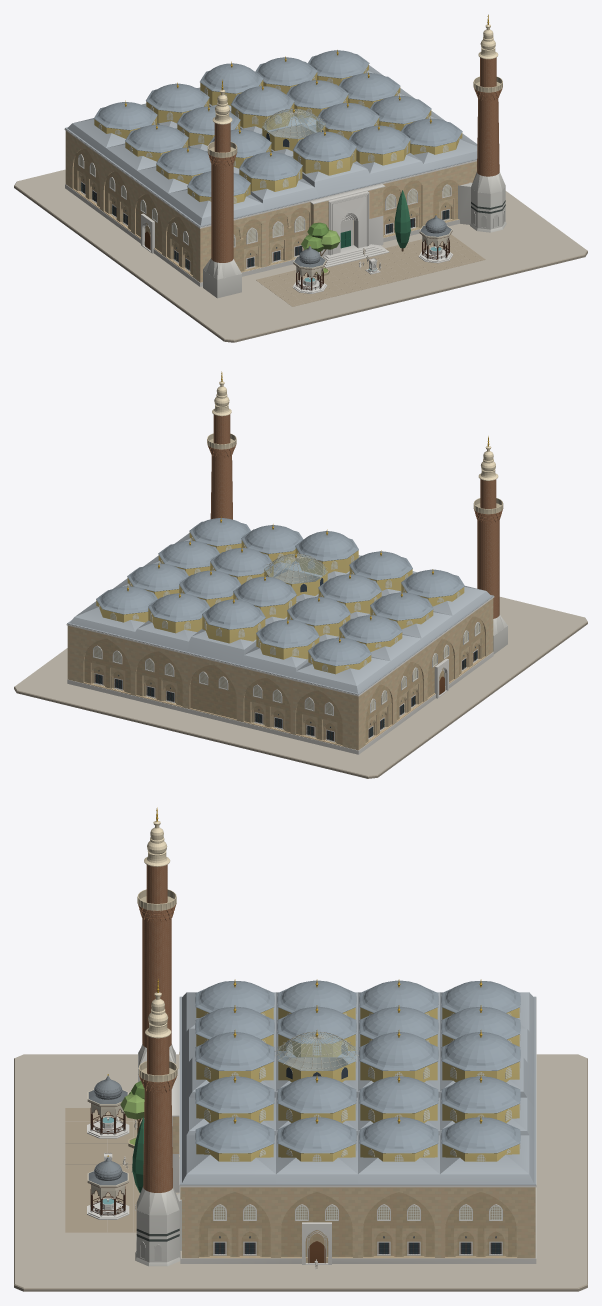
The model's file is ulu-cami_v23_sunum.glb.
3 views of the same model, one above another, from view 1: azimuth 30°, elevation 25°; view 2: azimuth 150°, elevation 25°; view 3: azimuth 270°, elevation 25° (orthographic). The views are drawn at different scales.
Parts seen in each view (by area): view 1: Kubbeler_19, Zemin_Kaide, Cati, Cephe_Kuzey, Cephe_Dogu, Minare_1, Zemin_Avlu_Tas, Minare_2, Pencere_Girintileri, Tac_Kapi, Sadirvan_Kubbe, Giris_Cikintili_Blok (+9 smaller); view 2: Kubbeler_19, Zemin_Kaide, Cephe_Guney, Cati, Cephe_Dogu, Pencere_Girintileri, Minare_2, Minare_1, Mermer_Bant, Sadirvan_Kubbe, Kasnak_Pencereleri, Silme_Ust (+1 smaller); view 3: Kubbeler_19, Zemin_Kaide, Cephe_Bati, Cati, Minare_1, Zemin_Avlu_Tas, Minare_2, Pencere_Girintileri, Sadirvan_Kubbe, Kasnak_Pencereleri, Mermer_Bant, Avlu_Sadirvan_Bati (+7 smaller).
Part boxes in pixels (x1,y1,x2,y2): Kubbeler_19: (94,50,462,203); Zemin_Kaide: (14,169,587,342); Cati: (65,65,477,227); Cephe_Kuzey: (199,161,476,282); Cephe_Dogu: (66,131,199,281); Minare_1: (458,14,506,232); Zemin_Avlu_Tas: (256,234,485,306); Minare_2: (203,79,241,298); Pencere_Girintileri: (77,169,454,273); Tac_Kapi: (323,191,389,267); Sadirvan_Kubbe: (262,109,325,151); Giris_Cikintili_Blok: (310,184,385,257); Kubbeler_19: (96,518,464,674); Zemin_Kaide: (14,597,587,778); Cephe_Guney: (67,625,358,750); Cati: (67,533,493,694); Cephe_Dogu: (359,599,492,749); Pencere_Girintileri: (90,637,481,743); Minare_2: (473,436,507,654); Minare_1: (207,371,236,519); Mermer_Bant: (67,652,493,754); Sadirvan_Kubbe: (264,554,327,596); Kasnak_Pencereleri: (98,537,460,671); Silme_Ust: (66,596,494,696); Kubbeler_19: (195,980,520,1161); Zemin_Kaide: (14,1054,587,1291); Cephe_Bati: (182,1187,534,1262); Cati: (179,992,536,1185); Minare_1: (135,979,181,1266); Zemin_Avlu_Tas: (65,1108,144,1232); Minare_2: (137,807,176,1081); Pencere_Girintileri: (208,1228,507,1256); Sadirvan_Kubbe: (277,1032,356,1082); Kasnak_Pencereleri: (204,1007,520,1161); Mermer_Bant: (179,1187,536,1263); Avlu_Sadirvan_Bati: (87,1155,129,1219).
Bounding box in the file's own units: 86.59 × 48.52 × 89.6.
Materials: 45 (5 with a texture image).
